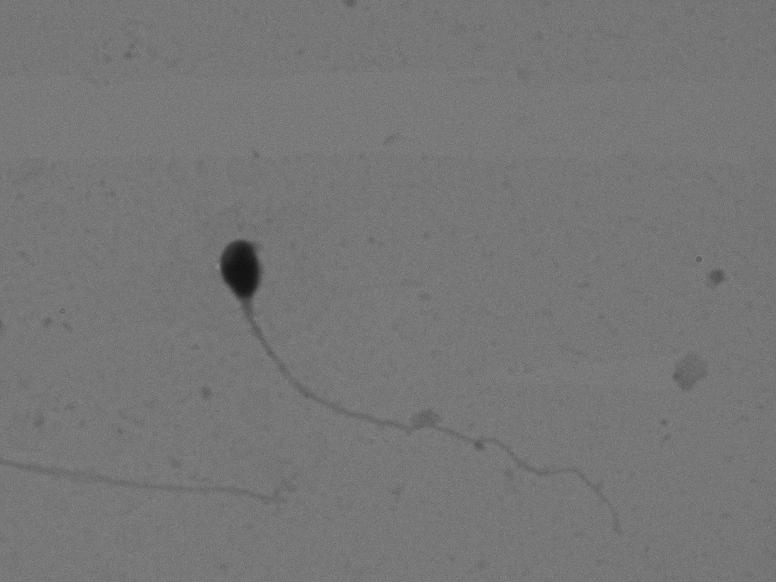Normal: (182, 208, 654, 546)
